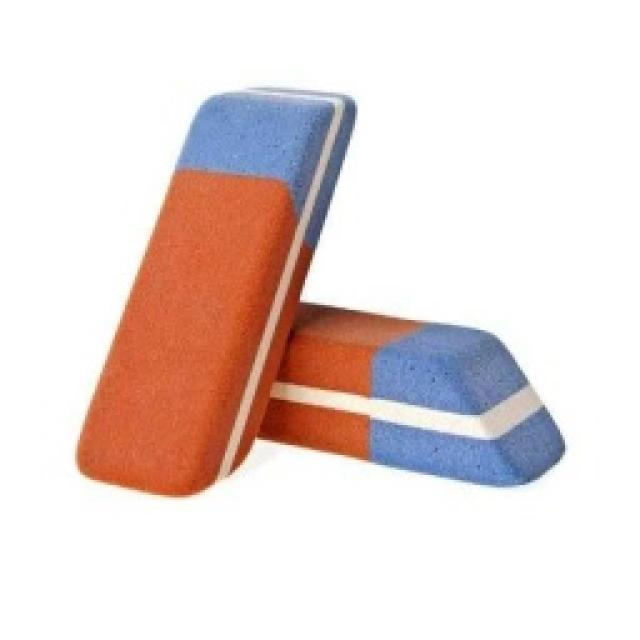Silgi: (68, 83, 357, 499)
